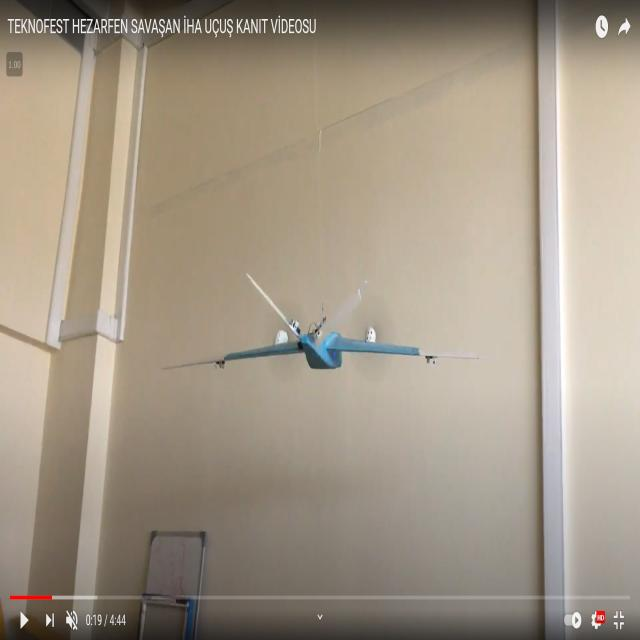iha: (161, 299, 480, 341)
